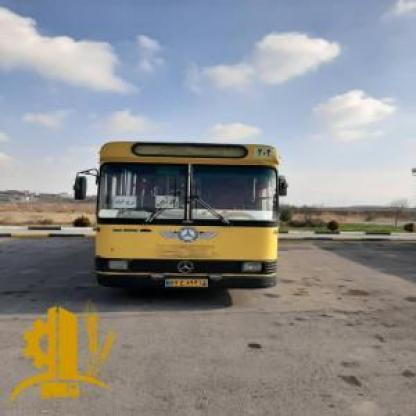Bus: (83, 135, 298, 298)
